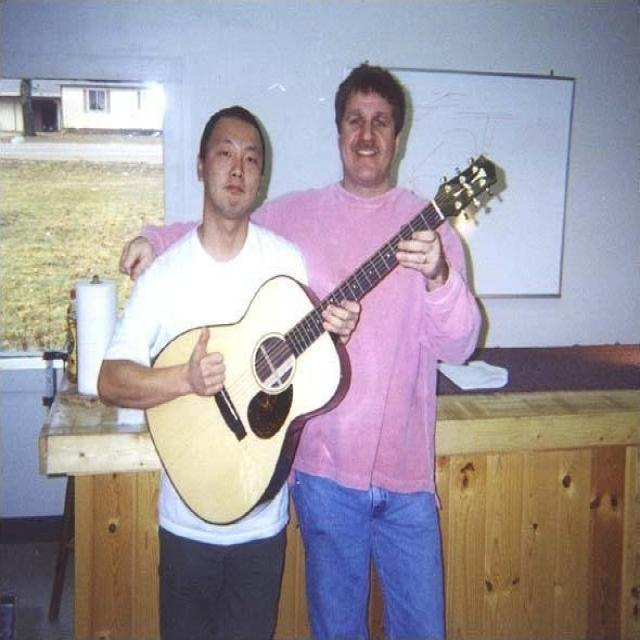guitar: (139, 152, 502, 529)
